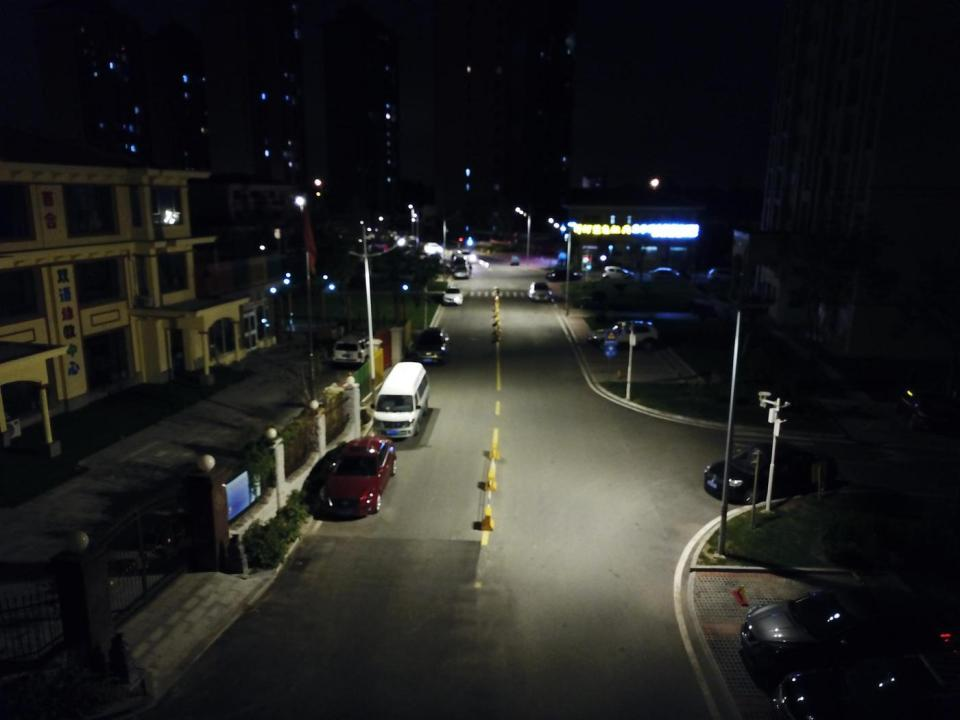car: (740, 583, 954, 675), (774, 656, 954, 720), (704, 442, 839, 505), (319, 435, 398, 517), (896, 388, 951, 431), (588, 320, 659, 351), (332, 330, 373, 365), (413, 327, 449, 364), (708, 266, 740, 282), (602, 266, 636, 281), (527, 281, 550, 303), (443, 284, 464, 304), (547, 270, 582, 281), (648, 267, 680, 279), (452, 262, 472, 278), (423, 242, 443, 255), (452, 250, 466, 262)
van: (371, 362, 432, 439)
